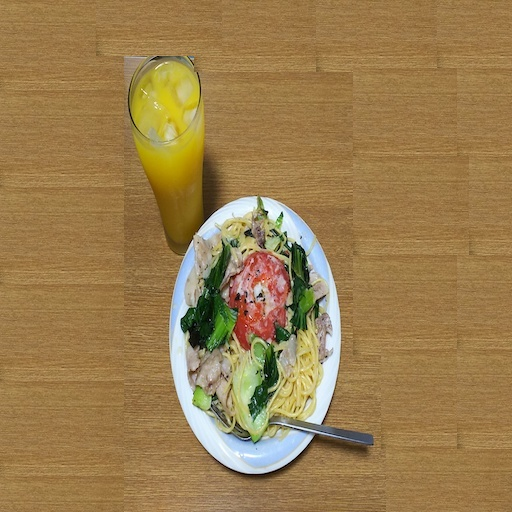drink: (128, 51, 213, 259)
pasta: (181, 197, 333, 443)
